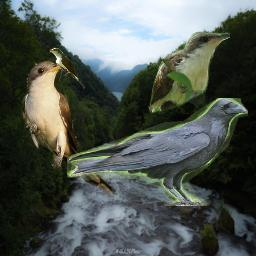Crow: (67, 98, 248, 206)
Cuckoo: (21, 60, 118, 199), (148, 31, 230, 114), (49, 47, 85, 89)
